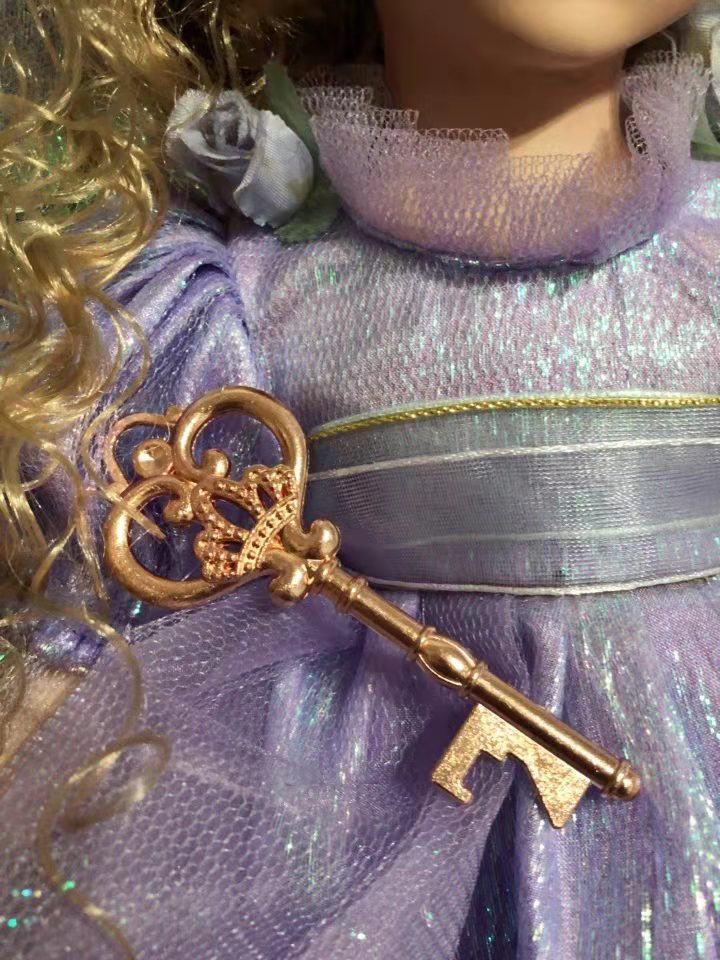key: (92, 376, 653, 829)
